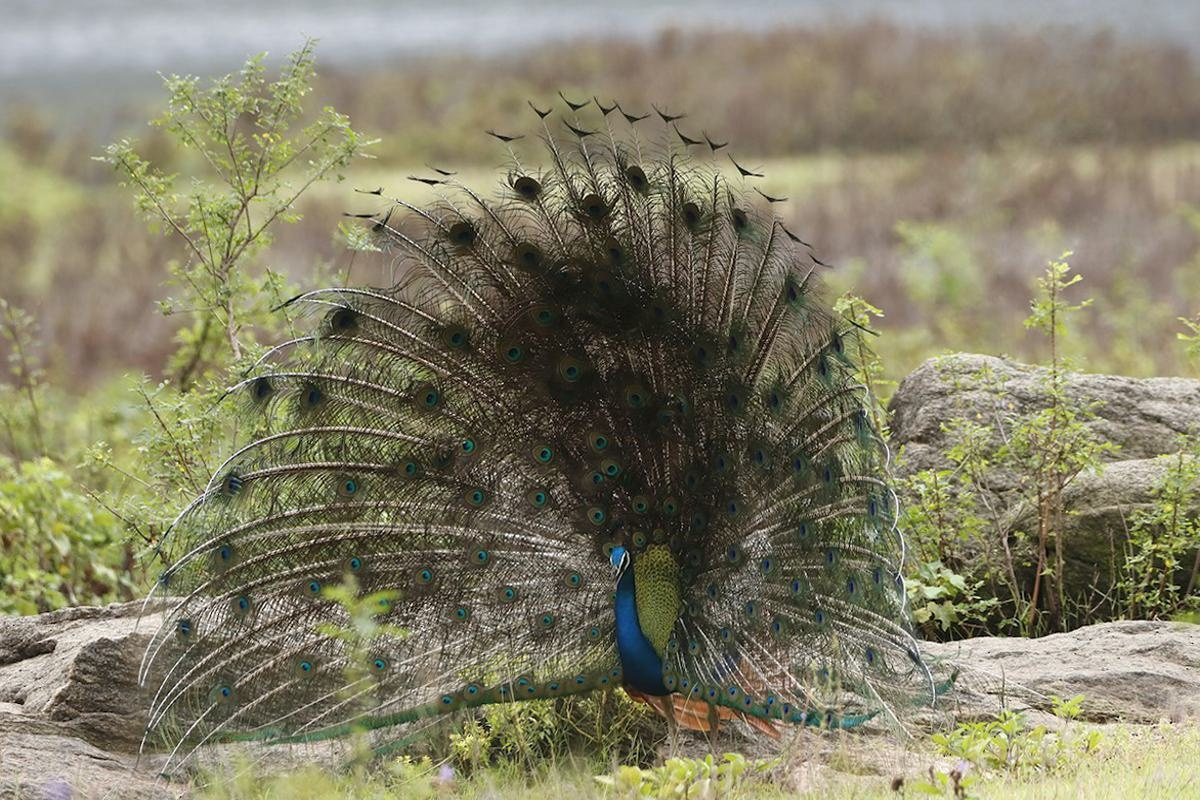peacock: (239, 147, 984, 800)
